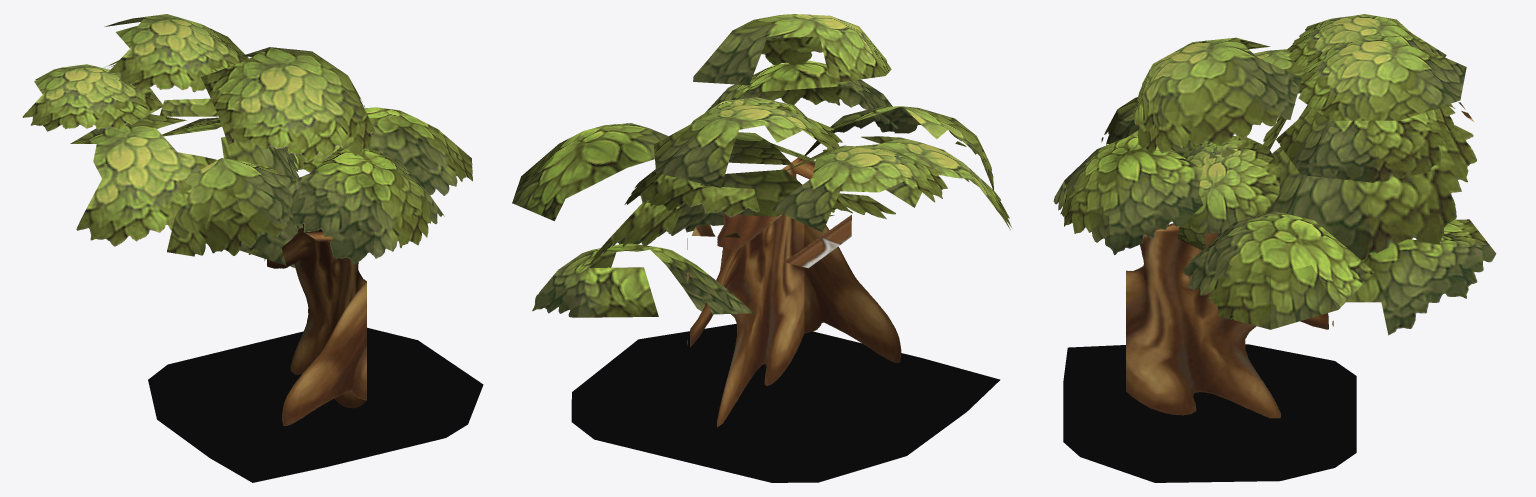
Rendered from K1_bigtree.FBX.
3 views of the same model, side by side, from view 1: azimuth 30°, elevation 25°; view 2: azimuth 150°, elevation 25°; view 3: azimuth 270°, elevation 25° (orthographic). The views are drawn at different scales.
Visible parts, largest first — view 1: k1_tree004, k1_tree0001, k1_tree005; view 2: k1_tree004, k1_tree0001, k1_tree005; view 3: k1_tree004, k1_tree0001, k1_tree005.
Boxes of the visible parts, box(x1,y1,x2,y2) form: k1_tree004: box(22, 14, 472, 267); k1_tree0001: box(148, 327, 483, 482); k1_tree005: box(264, 223, 366, 425); k1_tree004: box(512, 14, 1012, 317); k1_tree0001: box(571, 323, 1000, 482); k1_tree005: box(687, 157, 901, 427); k1_tree004: box(1053, 14, 1496, 335); k1_tree0001: box(1063, 344, 1356, 482); k1_tree005: box(1126, 223, 1333, 418).
Size of the model in its own units: 4.27 by 3.38 by 4.14.
